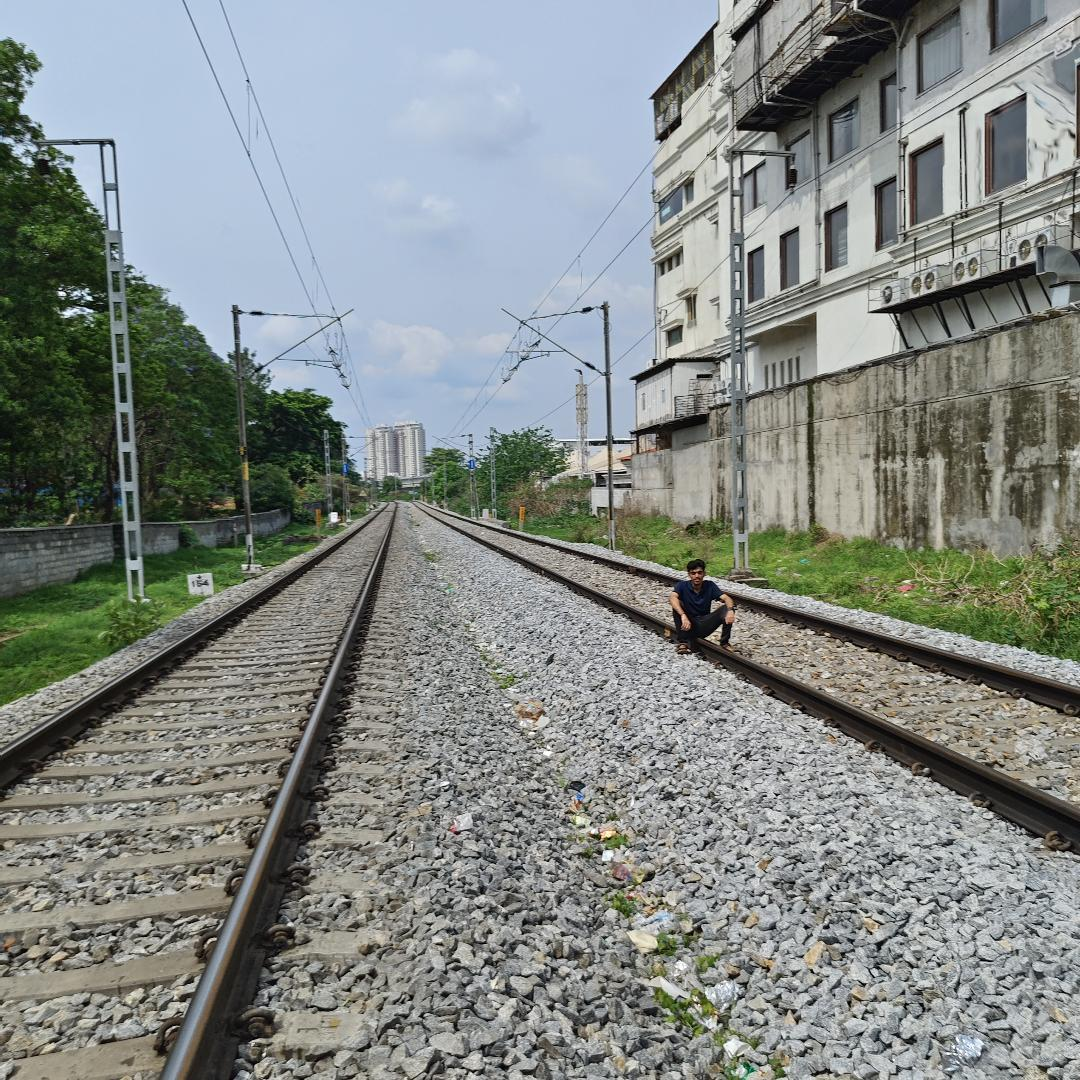sitting: (663, 549, 757, 672)
track: (411, 500, 1080, 875), (0, 502, 403, 1080)
